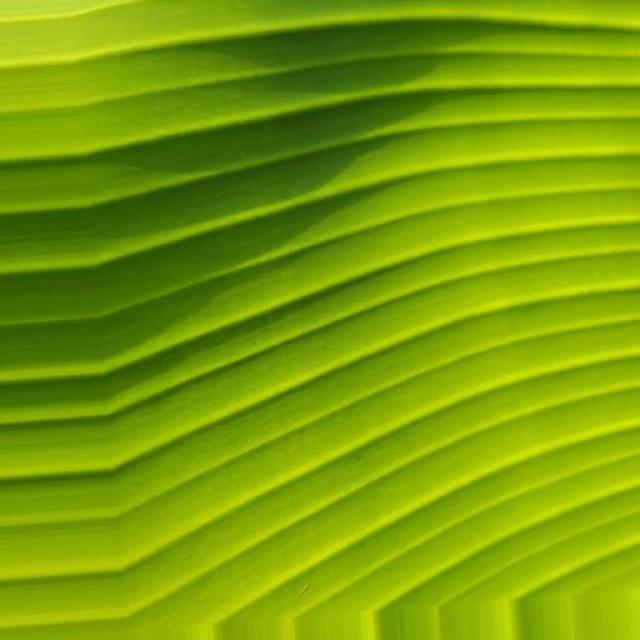Black_leaf_spot: (0, 0, 578, 595)
